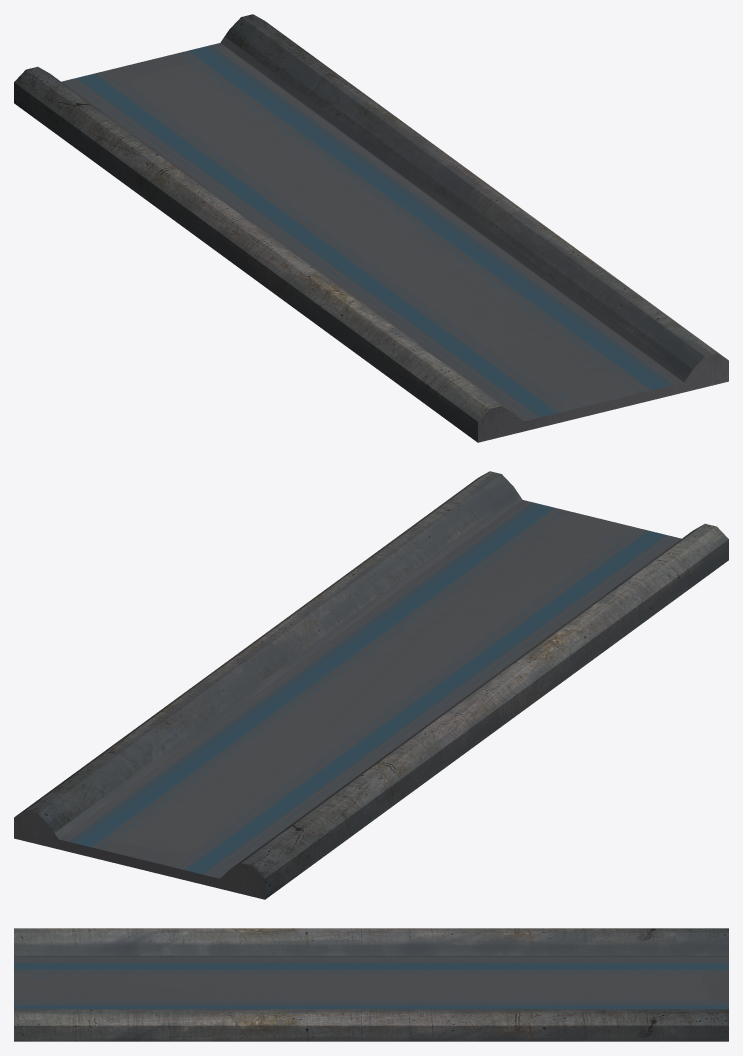
File: rail.obj
3 renders of one model, top to bottom at view 1: azimuth 30°, elevation 25°; view 2: azimuth 150°, elevation 25°; view 3: azimuth 270°, elevation 25°, orthographic. The views are drawn at different scales.
Parts seen in each view (by area): view 1: Cube; view 2: Cube; view 3: Cube.
Part boxes in pixels (x1,y1,x2,y2): Cube: (14,14,728,442); Cube: (14,471,728,899); Cube: (14,928,728,1041).
Size of the model in its own units: 5 by 0.5847 by 16.
1 material, 1 textured.
